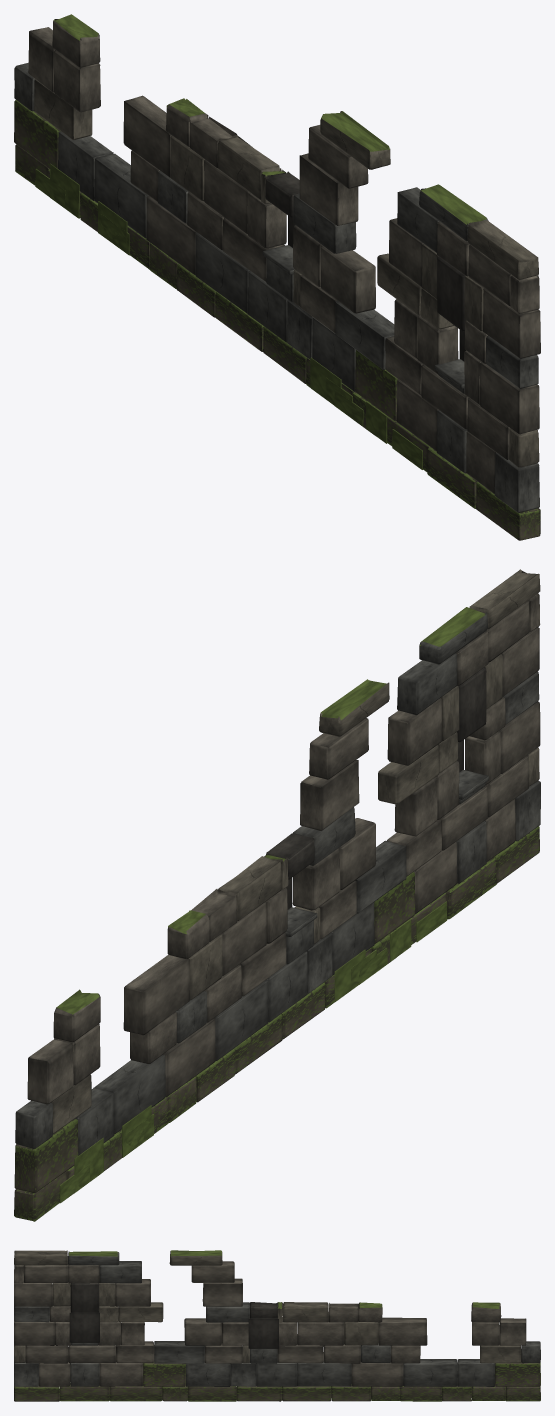
The model's file is THStage_OuterWall_E.fbx.
3 views of the same model, one above another, from view 1: azimuth 30°, elevation 25°; view 2: azimuth 150°, elevation 25°; view 3: azimuth 270°, elevation 25° (orthographic). The views are drawn at different scales.
Parts seen in each view (by area): view 1: THStage_OuterWall_E; view 2: THStage_OuterWall_E; view 3: THStage_OuterWall_E.
Boxes of the visible parts, <box> form: THStage_OuterWall_E: <box>14,14,540,540</box>; THStage_OuterWall_E: <box>14,569,540,1221</box>; THStage_OuterWall_E: <box>14,1250,540,1401</box>.
Size of the model in its own units: 0.245 by 2.4 by 7.8.
